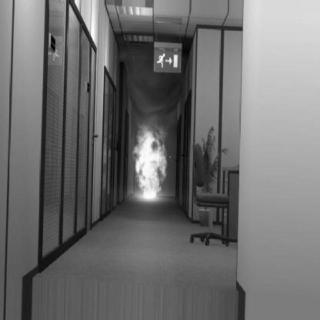Fire: (124, 116, 170, 207)
